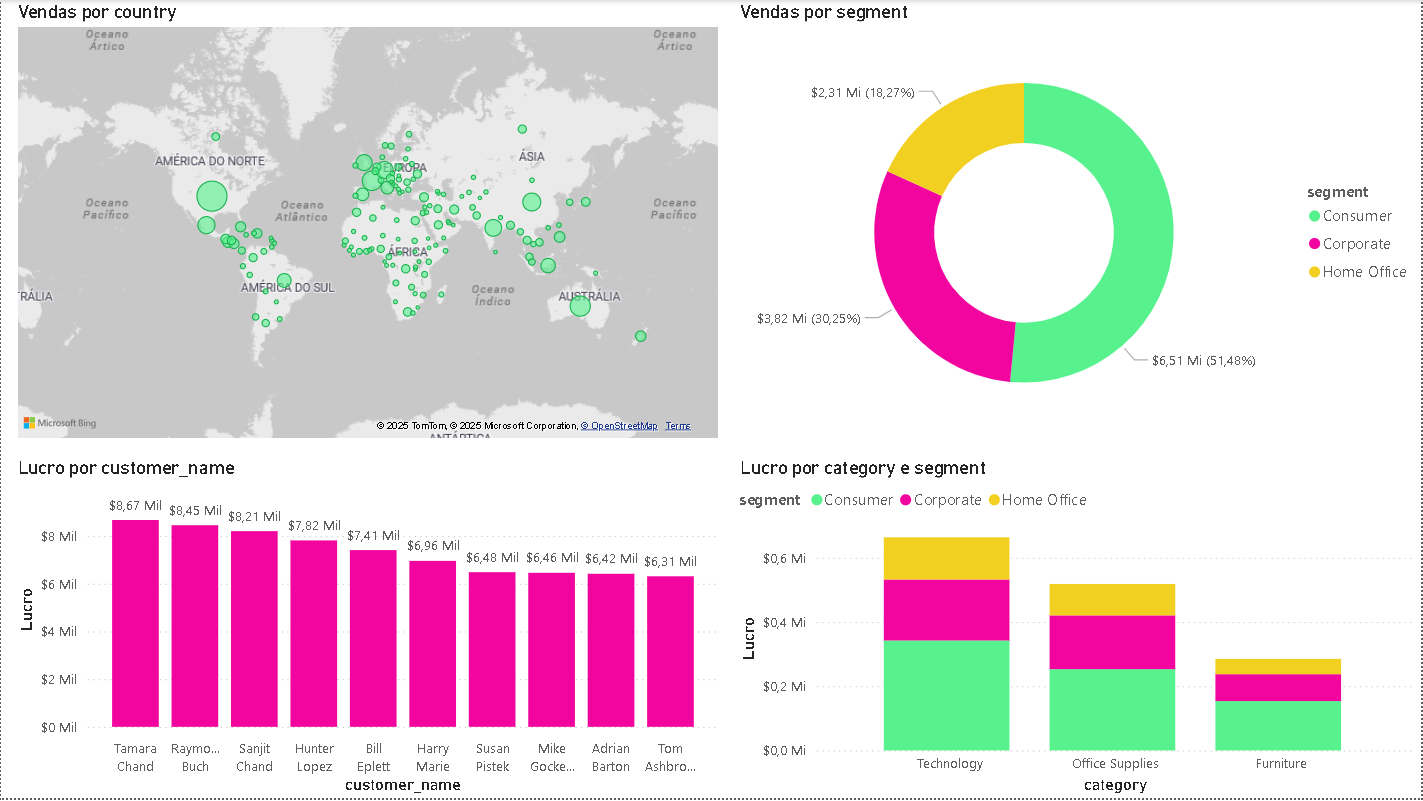

What the dashboard file says about the page in this screenshot:
{"tool":"powerbi","page":{"name":"Análise Geográfica e de Segmentação","canvas":[1280,720],"ordinal":1},"visuals":[{"type":"map","fields":{"Category":["dim_localidade.country"],"Size":["Medidas.SomaVendas"]},"box":[9.6,0,642.2,400.7],"z":0},{"type":"columnChart","fields":{"Category":["dim_cliente.customer_name"],"Y":["Medidas.SomaProfit"]},"box":[10,411,642,309],"z":1000},{"type":"donutChart","fields":{"Category":["dim_cliente.segment"],"Y":["Medidas.SomaVendas"]},"box":[662,0,618,401],"z":2000},{"type":"columnChart","fields":{"Category":["dim_produto.category"],"Series":["dim_cliente.segment"],"Y":["Medidas.SomaProfit"]},"box":[662,411,618,309],"z":3000}]}

Visuals, with their boxes in screenshot pixels (x1, y1, x2, y2), scaled from the page's 1280x720 canvas onto the 1423x801 screenshot:
map - dim_localidade.country x Medidas.SomaVendas: Rect(11, 0, 725, 446)
columnChart - dim_cliente.customer_name x Medidas.SomaProfit: Rect(11, 457, 725, 800)
donutChart - dim_cliente.segment x Medidas.SomaVendas: Rect(736, 0, 1422, 446)
columnChart - dim_produto.category x dim_cliente.segment: Rect(736, 457, 1422, 800)
